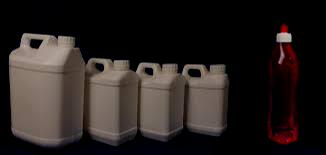Plastic: (8, 30, 85, 150), (266, 20, 302, 145)
